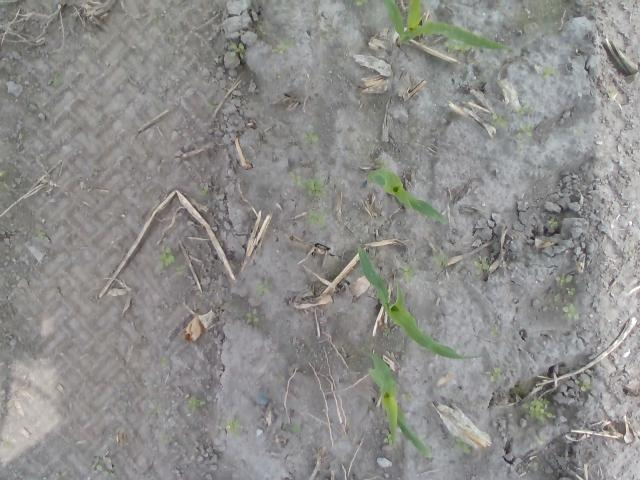Maize: (358, 246, 488, 359), (355, 348, 434, 459), (388, 1, 516, 54), (367, 166, 449, 227)
Weeds: (291, 172, 328, 198), (520, 397, 556, 422), (154, 246, 175, 271), (398, 262, 419, 287), (92, 456, 116, 477), (308, 208, 328, 233), (270, 41, 298, 58), (517, 124, 534, 150), (483, 368, 508, 384), (562, 302, 582, 322), (187, 395, 207, 415), (222, 416, 242, 436), (452, 438, 474, 456), (474, 256, 488, 282), (252, 280, 272, 298), (538, 68, 562, 82), (574, 378, 594, 394), (300, 133, 318, 150), (445, 40, 470, 52), (493, 111, 509, 129), (514, 104, 534, 118), (228, 44, 246, 59), (145, 406, 165, 418), (557, 274, 576, 286), (246, 308, 258, 327), (400, 392, 419, 404), (51, 72, 65, 88), (572, 121, 586, 137), (0, 171, 11, 191), (436, 254, 450, 267), (535, 432, 549, 445), (546, 216, 560, 228), (173, 266, 187, 278), (491, 326, 502, 341), (606, 87, 620, 98), (288, 426, 302, 436), (382, 435, 392, 448), (382, 328, 394, 338), (162, 356, 170, 370), (202, 184, 210, 198), (37, 230, 48, 240), (566, 286, 576, 296), (56, 472, 68, 480), (276, 376, 286, 385), (355, 0, 369, 6), (555, 292, 563, 302)
